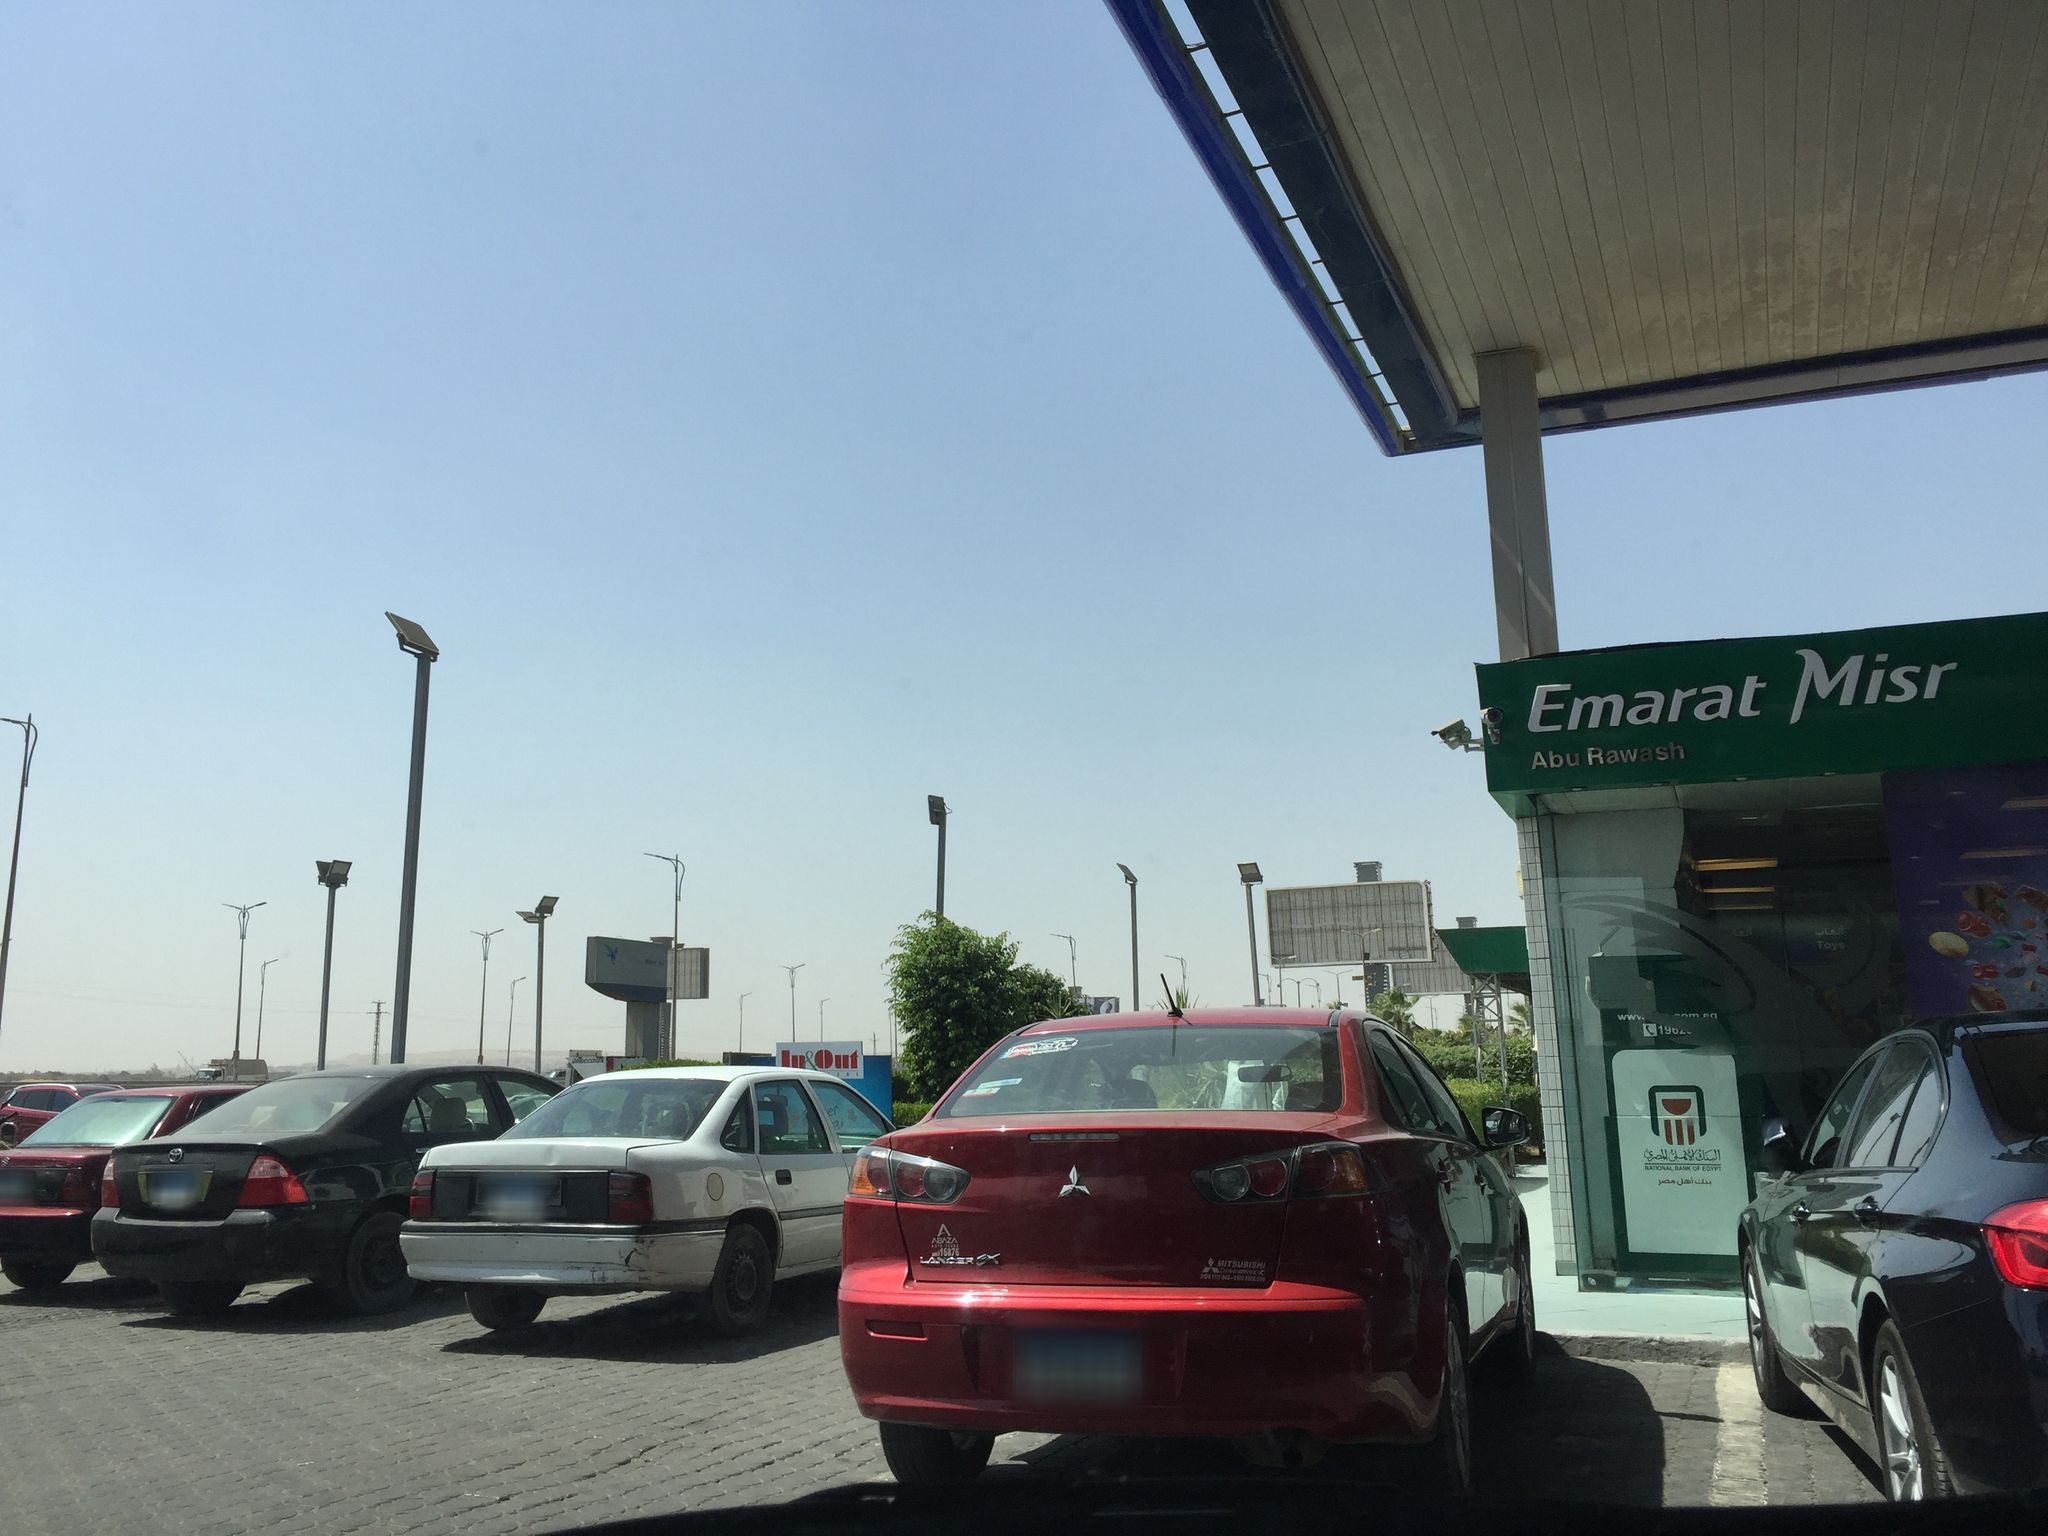car: (830, 987, 1540, 1489), (1732, 1007, 2046, 1509), (397, 1062, 898, 1329), (90, 1058, 564, 1320), (0, 1081, 261, 1297), (0, 1079, 126, 1150)
truck: (189, 1058, 269, 1083)
